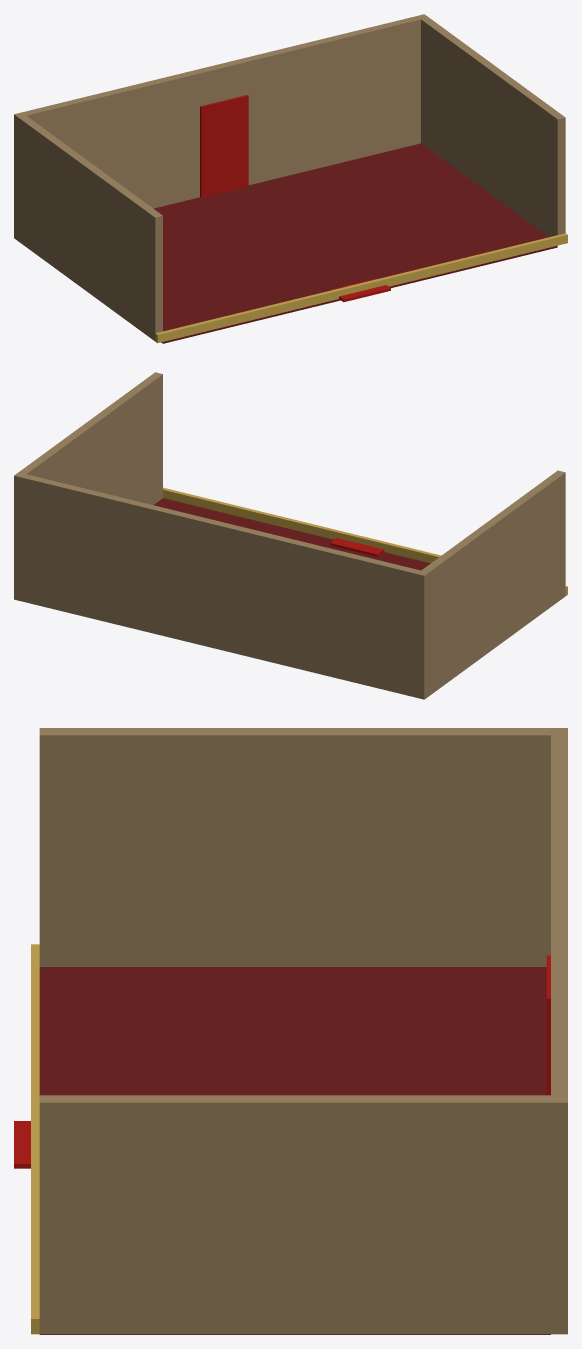
The model's file is foyer.obj.
The picture shows the model from 3 angles, top to bottom: view 1: azimuth 30°, elevation 25°; view 2: azimuth 150°, elevation 25°; view 3: azimuth 270°, elevation 25°; orthographic projection. The views are drawn at different scales.
Bounding box in the file's own units: 10.4 × 3.1 × 6.5.
